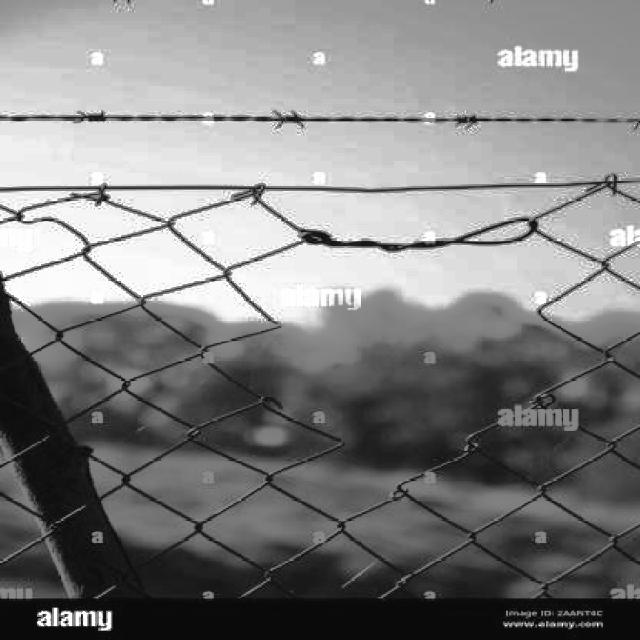anomaly-fence: (185, 170, 618, 557)
